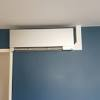ac: (7, 27, 88, 56)
